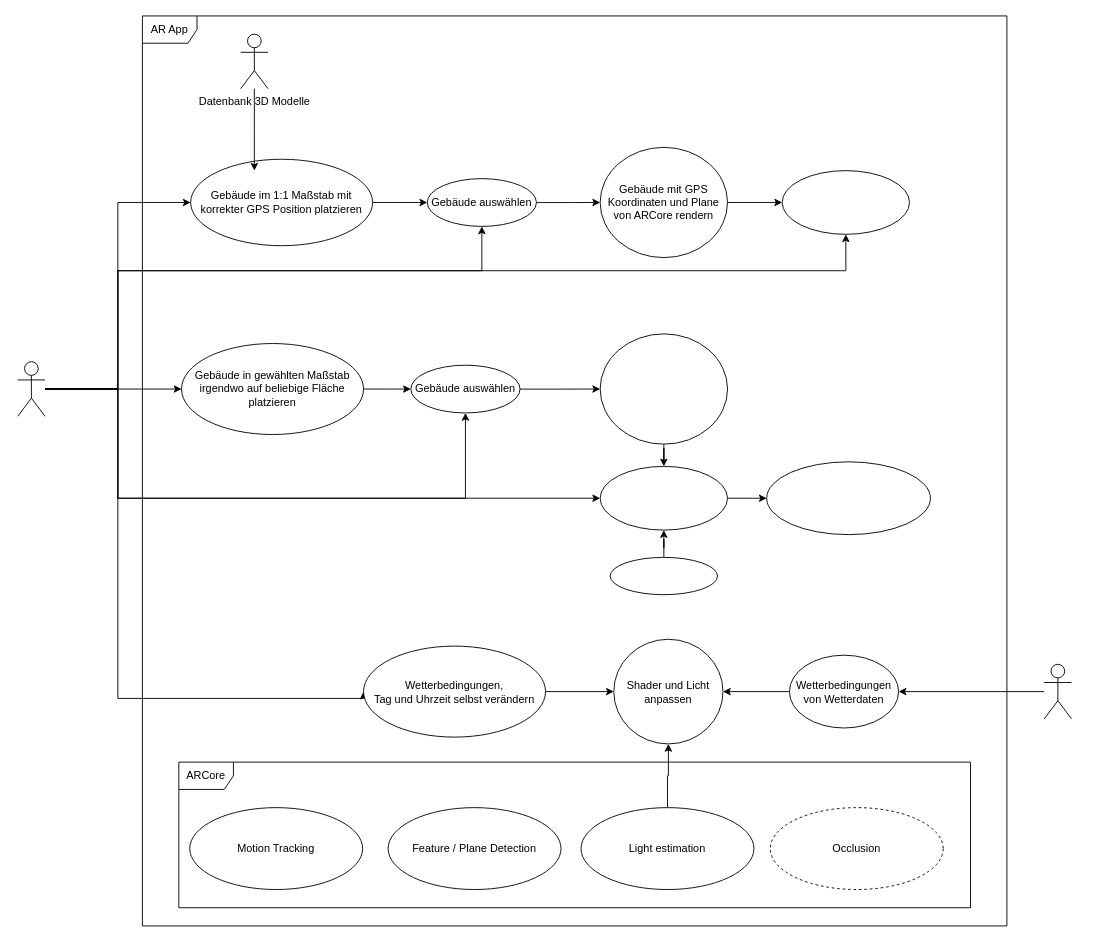
Some shapes in this 1116 by 942 pixel diagram are drawn without their labels. Each missing label, with the centre of its shape:
"Ausgewähltes Gebäude bewegen, rotieren, skalieren" goes at (848,498).
"Gebäude auf Plane von ARCore rendern" goes at (663,388).
"Neuorientierung der Gebäude nach Norden" goes at (845,202).
"Nutzer" goes at (31,388).
"Platziertes Gebäude auswählen" goes at (663,497).
"Raycast" goes at (663,575).
"Wetter REST-API" goes at (1057,691).
